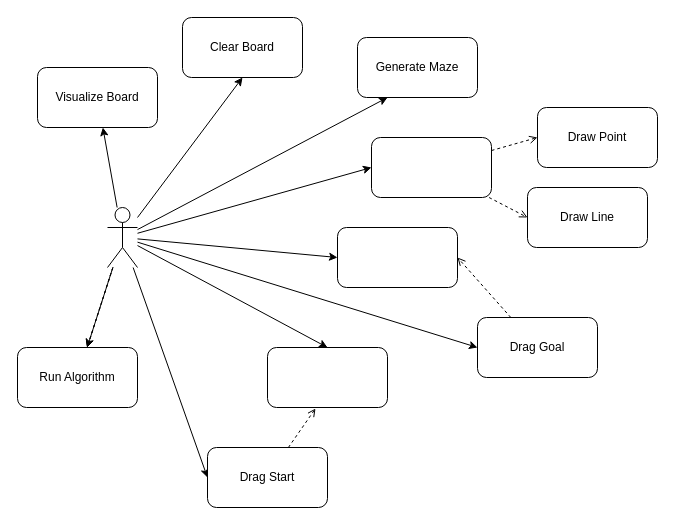
Image size: 675x525. Some labels were removed from this diagram. Each missing label, with the centre of its shape:
"Draw Obstacle" goes at (x=431, y=167).
"Pick Goal" goes at (x=397, y=257).
"Pick Start" goes at (x=327, y=377).
"User" goes at (x=122, y=237).
